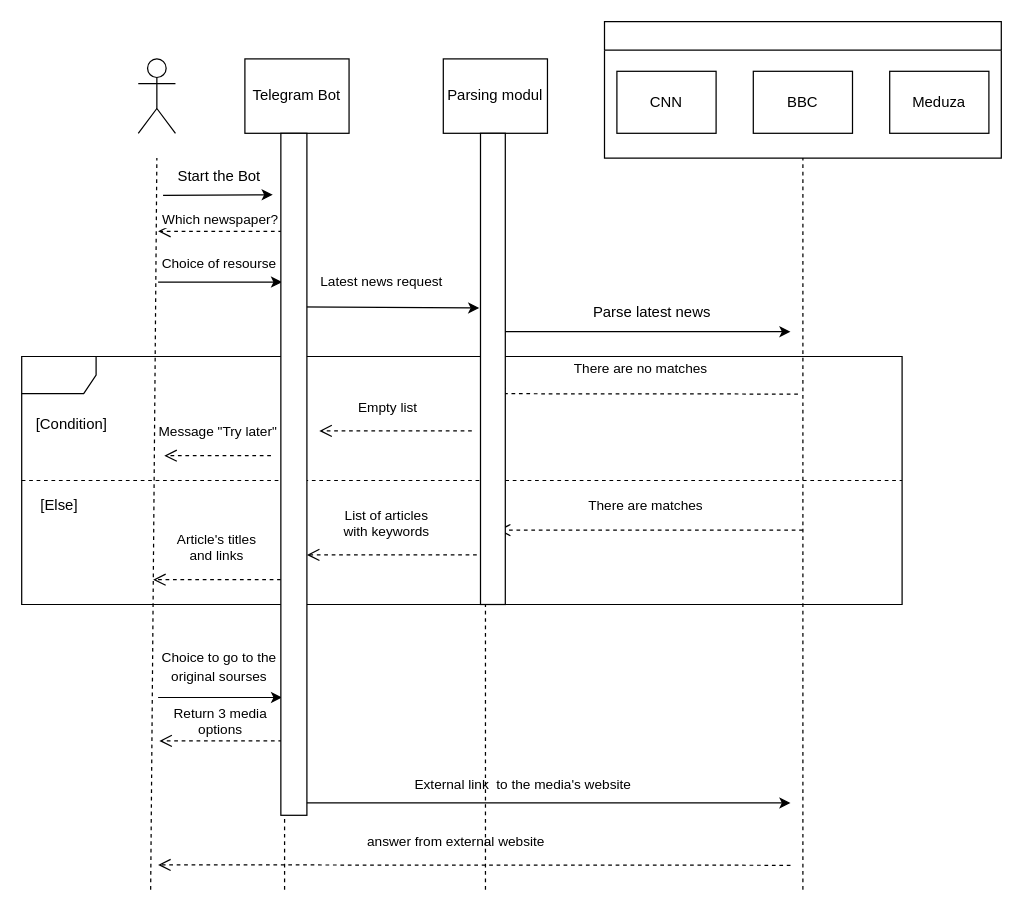
This 1023x913 diagram has some shape labels left out. Here are the shapes that lost their labels. From the top down, the box of each, then its label:
(137, 58, 175, 133): Actor
(603, 20, 1001, 158): Media
(20, 355, 902, 604): Alternative
